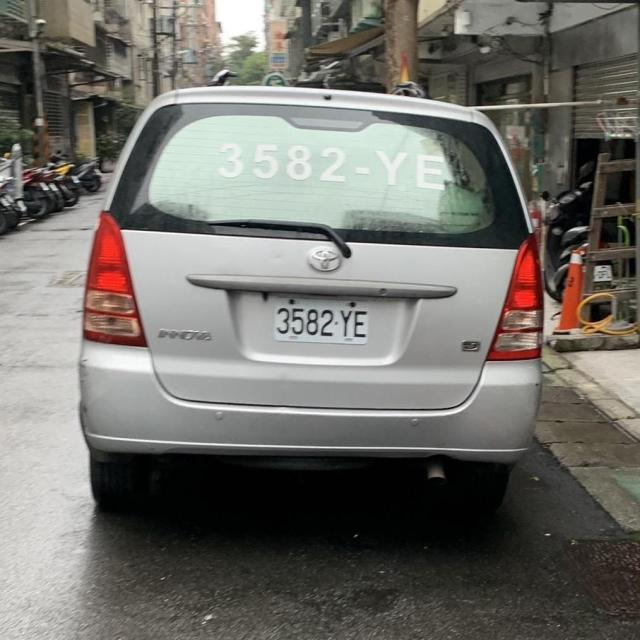W: (266, 289, 377, 350)
